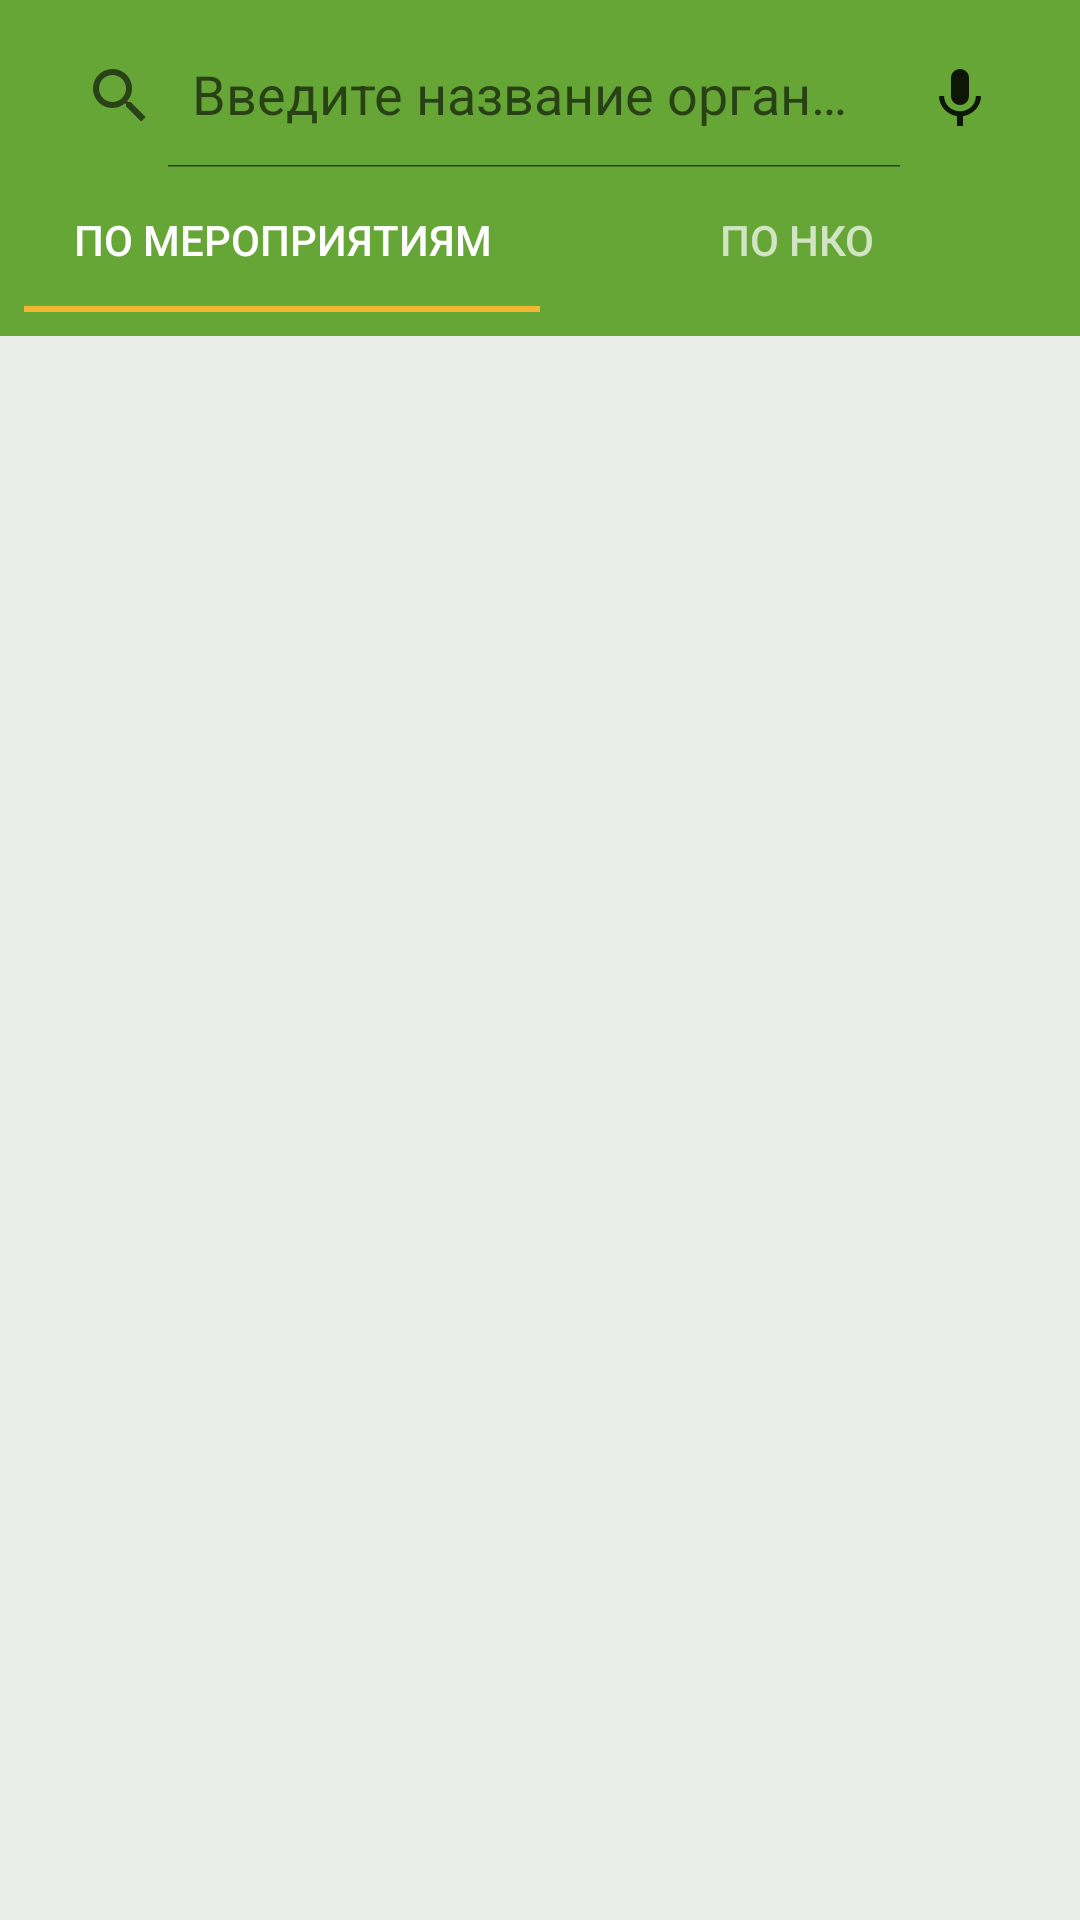

Screen size 1080 × 1920. Icon name, then its box in pixels as Rect(x1, y1, x2, y2):
voice input: Rect(939, 69, 981, 126)
